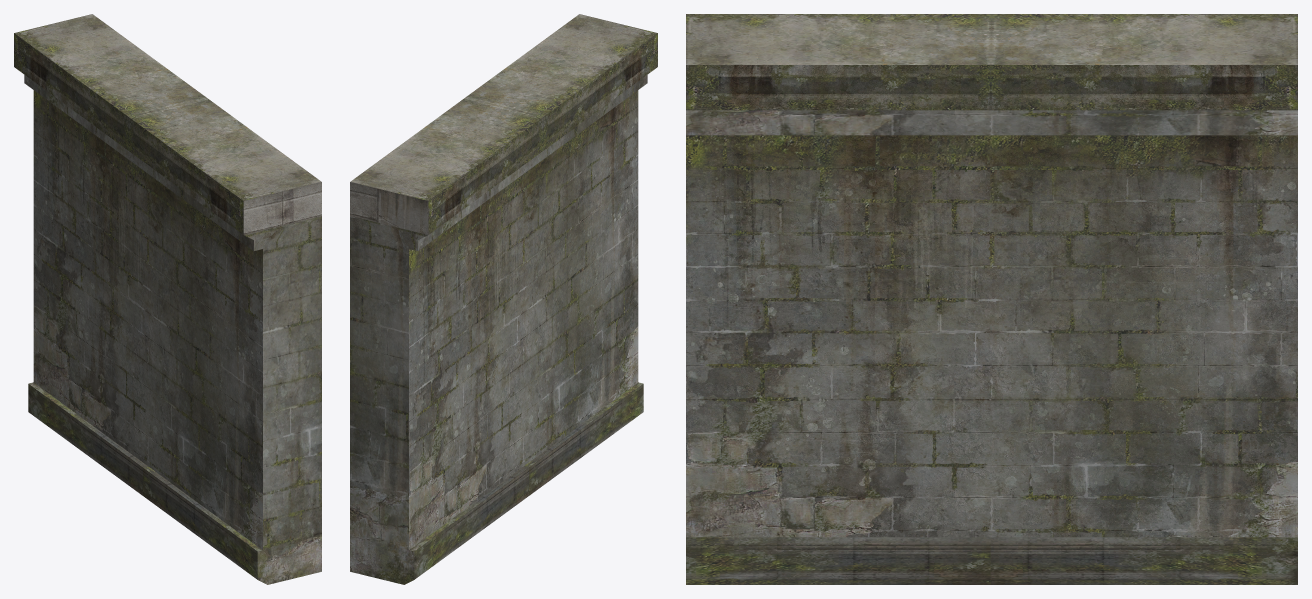
File: bg_lut_lucastle_brosewall02a_sm_psy.FBX
3 renders of one model, left to right at view 1: azimuth 30°, elevation 25°; view 2: azimuth 150°, elevation 25°; view 3: azimuth 270°, elevation 25°, orthographic. The views are drawn at different scales.
Parts seen in each view (by area): view 1: bg_lut_lucastle_brosewall02a_sm_psy; view 2: bg_lut_lucastle_brosewall02a_sm_psy; view 3: bg_lut_lucastle_brosewall02a_sm_psy.
Boxes of the visible parts, x1,y1,x2,y2 form: bg_lut_lucastle_brosewall02a_sm_psy: (14, 14, 321, 584); bg_lut_lucastle_brosewall02a_sm_psy: (350, 14, 657, 584); bg_lut_lucastle_brosewall02a_sm_psy: (686, 14, 1297, 584).
Size of the model in its own units: 75.75 by 360 by 384.
